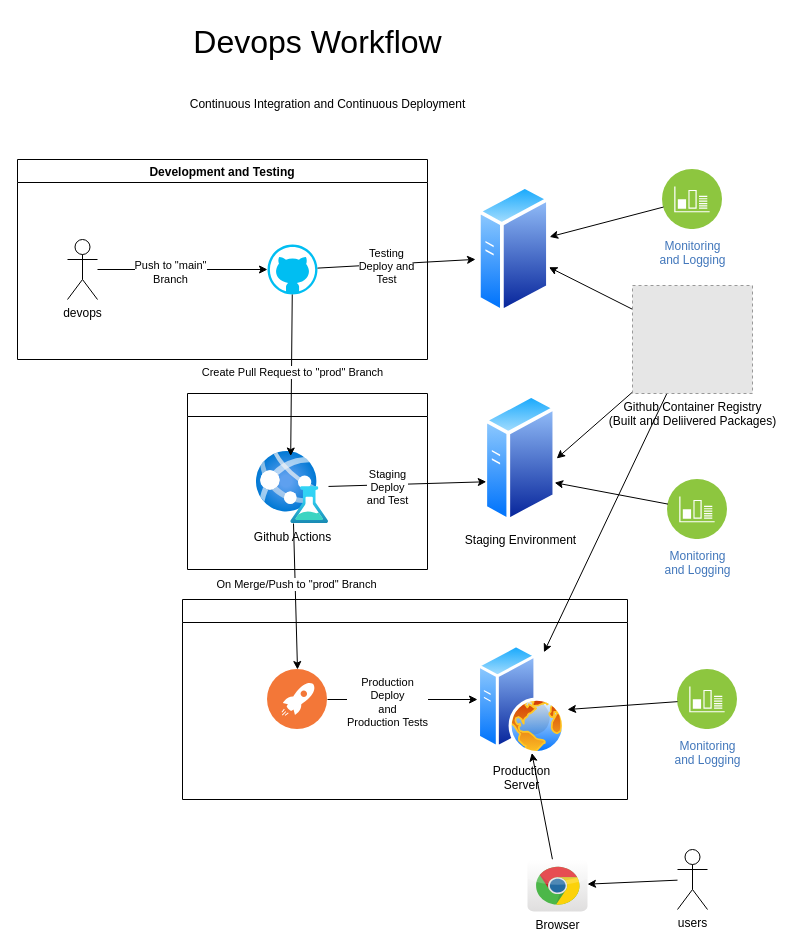
Image size: 793x949. Some labels were removed from this diagram. Grey dashed boxes stand in for pictures. The shapes that lost their labels are listed below. From the top down, each one's box as (x1, y1, x2, y2) in pixels, then its label:
(267, 244, 317, 294): Github SCM
(477, 184, 550, 314): Testing Environment
(186, 392, 428, 570): Staging
(267, 669, 327, 729): Continuous Deployment
(182, 598, 628, 800): Deployment (Production)
